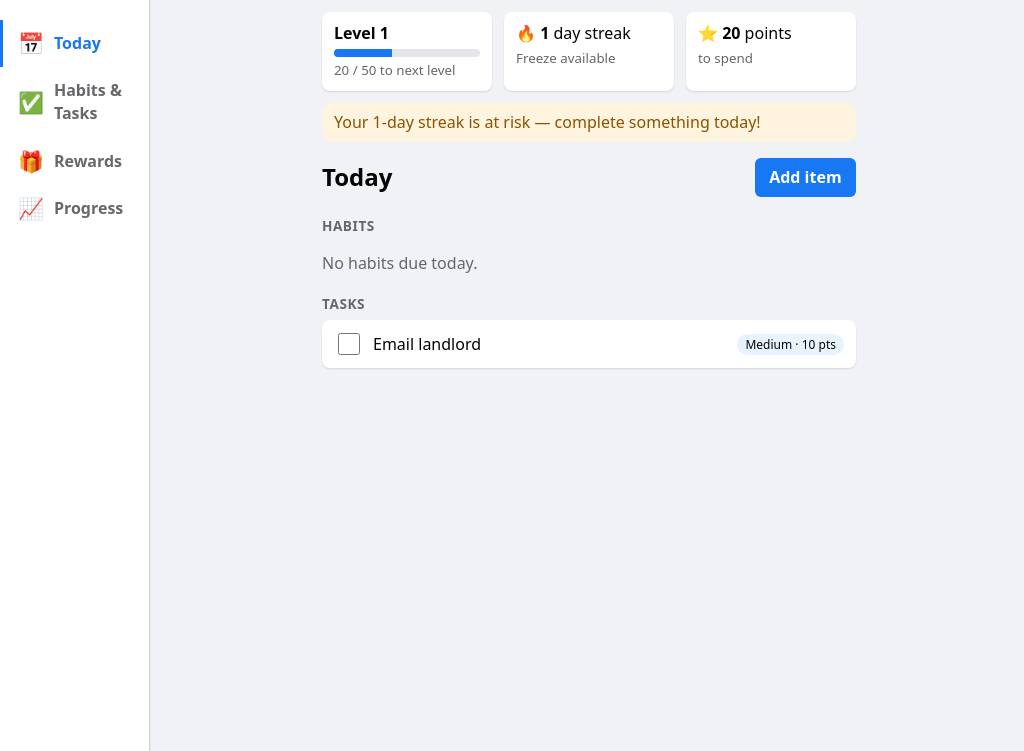
Scenario: Habits & Tasks screen › can edit a completed task
This screenshot has width=1024, height=751.
Click the button "✅ Habits & Tasks".
click(74, 102)  # box [0,67,149,138]
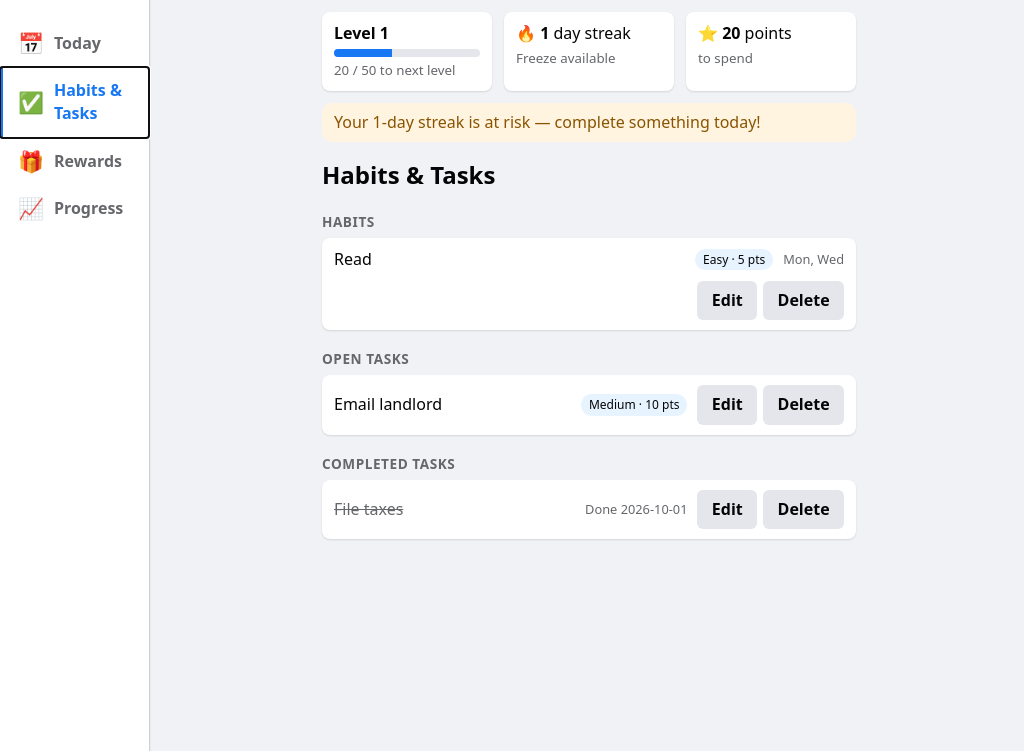
Click the button named "edit file taxes".
click(727, 510)  # box [698,490,757,529]
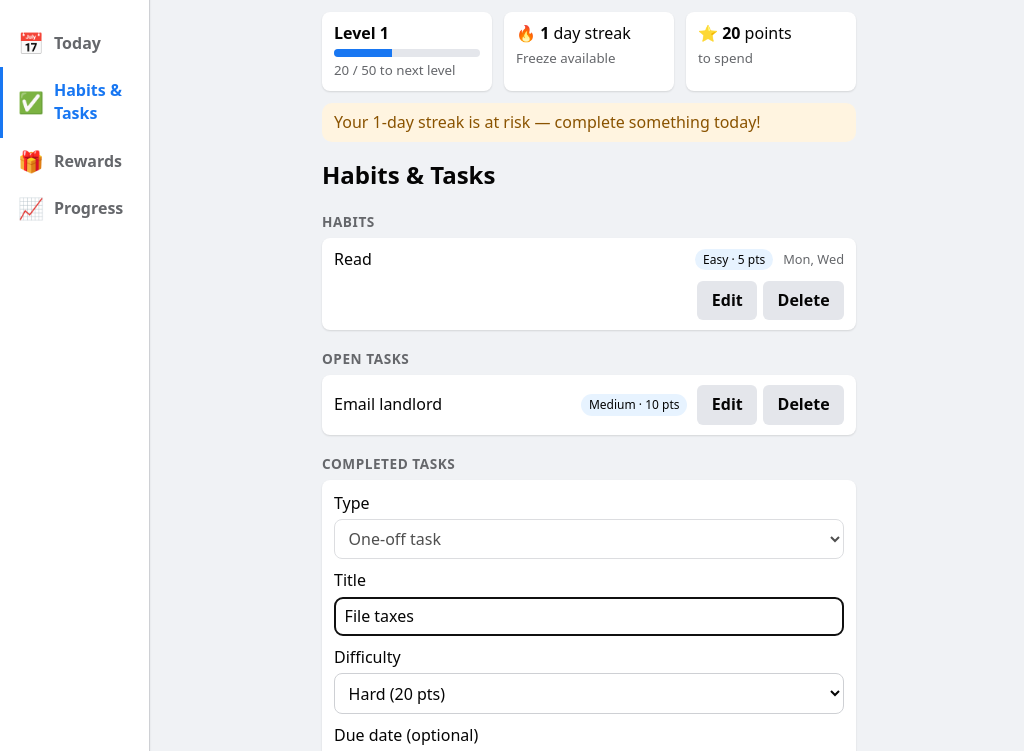
Expected: the field labelled "Title" holds "File taxes"
Replace the text in the field labelled "Title" with "File taxes 2026" at (589, 616), box [334,597,844,636]
(page scrolled)
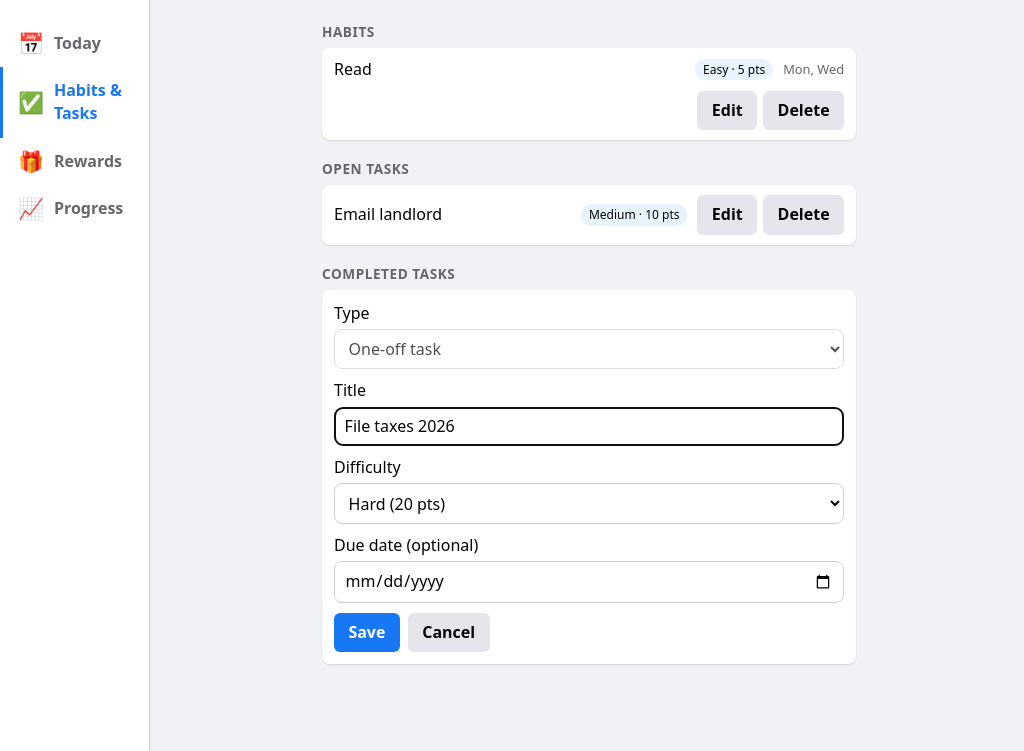
Click the button "Save".
click(367, 632)  # box [334,612,400,652]
(page scrolled)
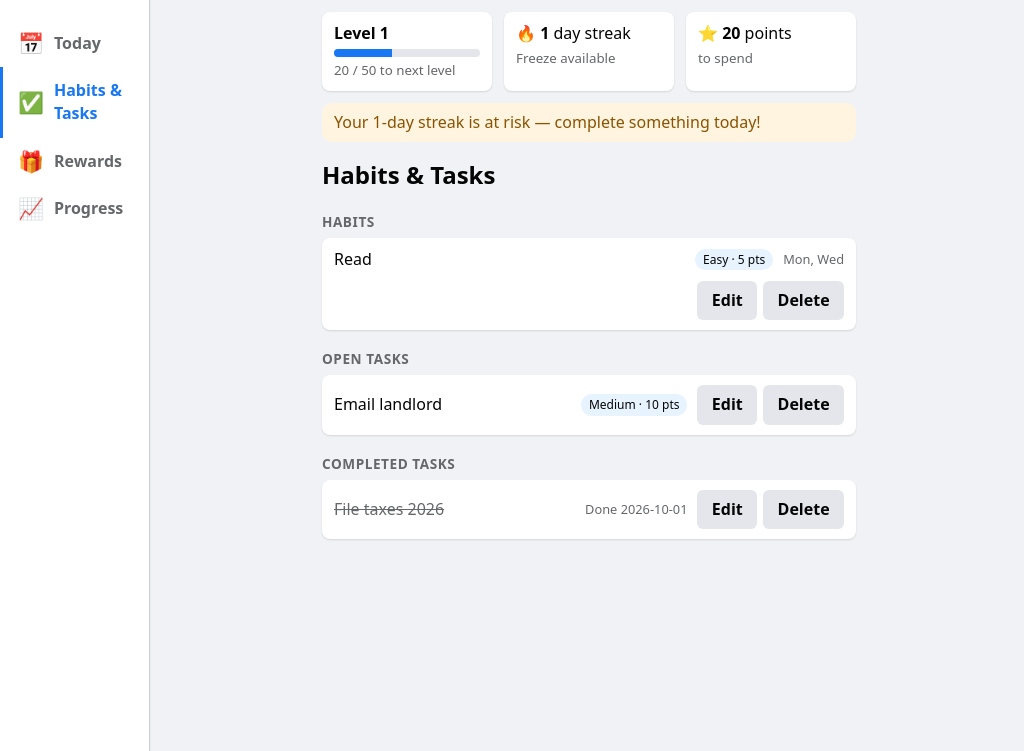
Expected: the text "File taxes 2026" is shown, [334,498,444,520]
